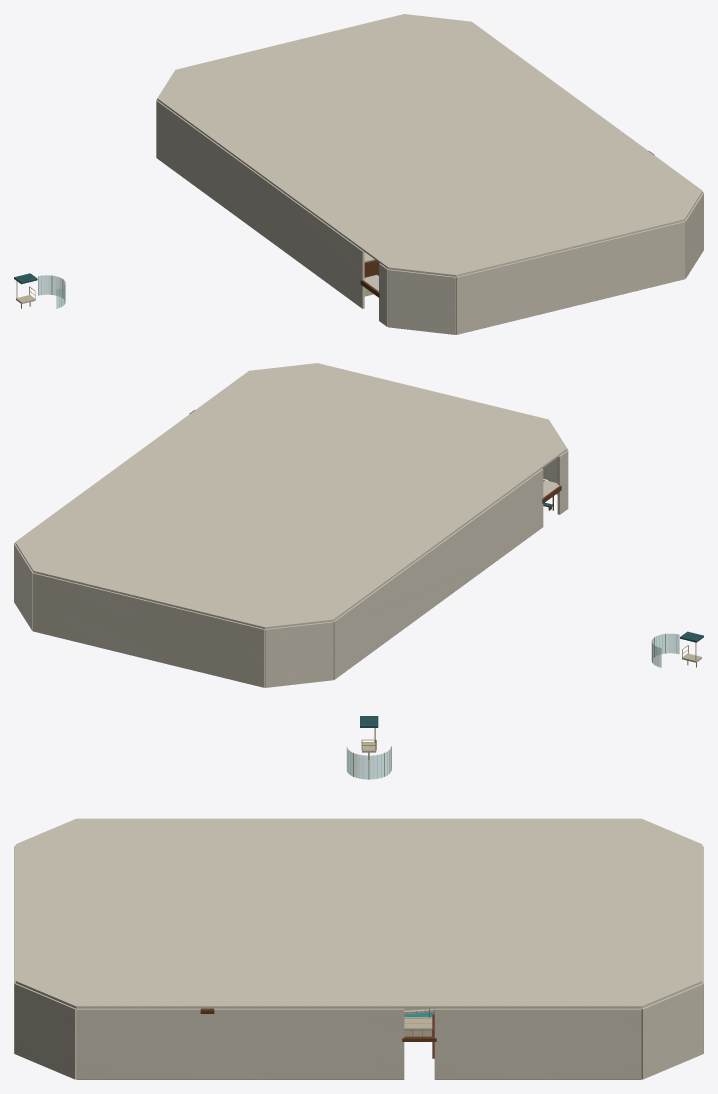
Rendered from AquaticCompletion_r006.glb.
3 views of the same model, one above another, from view 1: azimuth 30°, elevation 25°; view 2: azimuth 150°, elevation 25°; view 3: azimuth 270°, elevation 25° (orthographic). The views are drawn at different scales.
Visible parts, largest first — view 1: AQ6_BATCH_roof_asset_ASTRAEA_ivory_enamel, AQ6_BATCH_architecture_ASTRAEA_ivory_enamel, AQ6_BATCH_architecture_AQD_glass; view 2: AQ6_BATCH_roof_asset_ASTRAEA_ivory_enamel, AQ6_BATCH_architecture_ASTRAEA_ivory_enamel, AQ6_BATCH_architecture_AQD_glass; view 3: AQ6_BATCH_roof_asset_ASTRAEA_ivory_enamel, AQ6_BATCH_architecture_ASTRAEA_ivory_enamel, AQ6_BATCH_architecture_AQD_glass.
Boxes of the visible parts, left/top/right/bottom form: AQ6_BATCH_roof_asset_ASTRAEA_ivory_enamel: left=157, top=14, right=702, bottom=276; AQ6_BATCH_architecture_ASTRAEA_ivory_enamel: left=156, top=98, right=703, bottom=334; AQ6_BATCH_architecture_AQD_glass: left=38, top=275, right=65, bottom=308; AQ6_BATCH_roof_asset_ASTRAEA_ivory_enamel: left=15, top=363, right=567, bottom=629; AQ6_BATCH_architecture_ASTRAEA_ivory_enamel: left=14, top=449, right=568, bottom=687; AQ6_BATCH_architecture_AQD_glass: left=651, top=633, right=679, bottom=667; AQ6_BATCH_roof_asset_ASTRAEA_ivory_enamel: left=15, top=818, right=702, bottom=1008; AQ6_BATCH_architecture_ASTRAEA_ivory_enamel: left=14, top=846, right=703, bottom=1079; AQ6_BATCH_architecture_AQD_glass: left=346, top=747, right=391, bottom=779.
Size of the model in its own units: 79.52 by 9.15 by 68.32.
19 materials, 16 textured.
